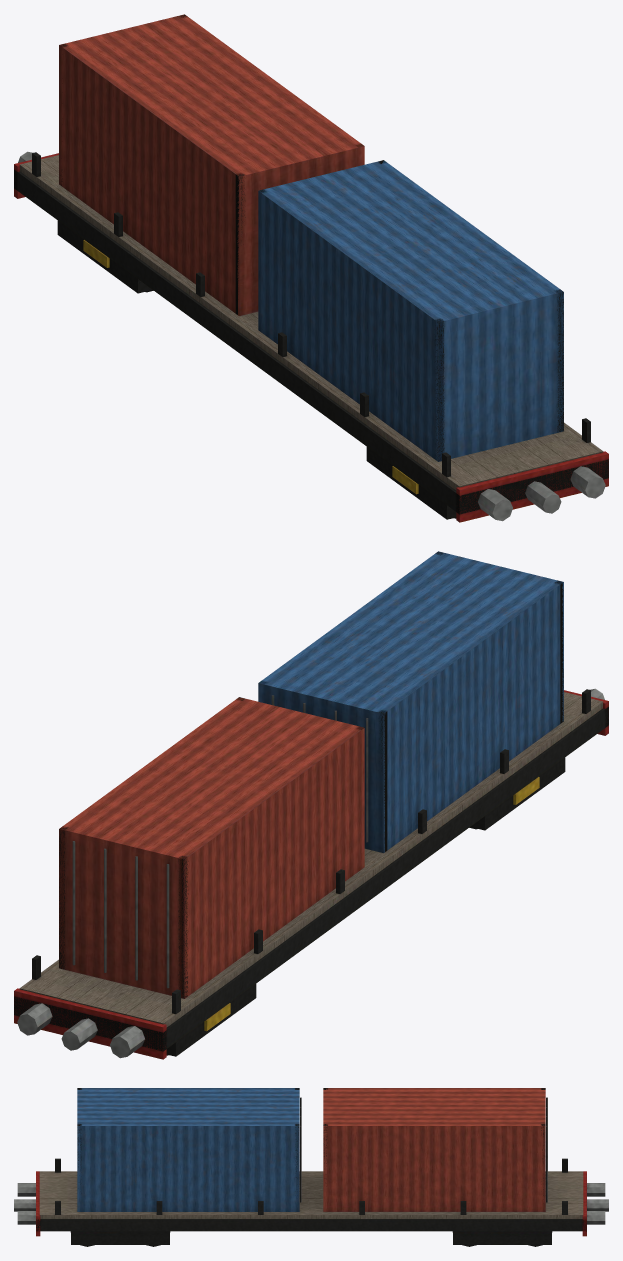
File: flatcar.glb
The picture shows the model from 3 angles, top to bottom: view 1: azimuth 30°, elevation 25°; view 2: azimuth 150°, elevation 25°; view 3: azimuth 270°, elevation 25°; orthographic projection. The views are drawn at different scales.
Parts seen in each view (by area): view 1: flatcar; view 2: flatcar; view 3: flatcar.
Boxes of the visible parts, bbox=[...] form: flatcar: bbox=[14, 14, 608, 522]; flatcar: bbox=[14, 551, 608, 1059]; flatcar: bbox=[14, 1088, 608, 1246].
Bounding box in the file's own units: 2.9 × 3.81 × 16.2.
1 material, 1 textured.
